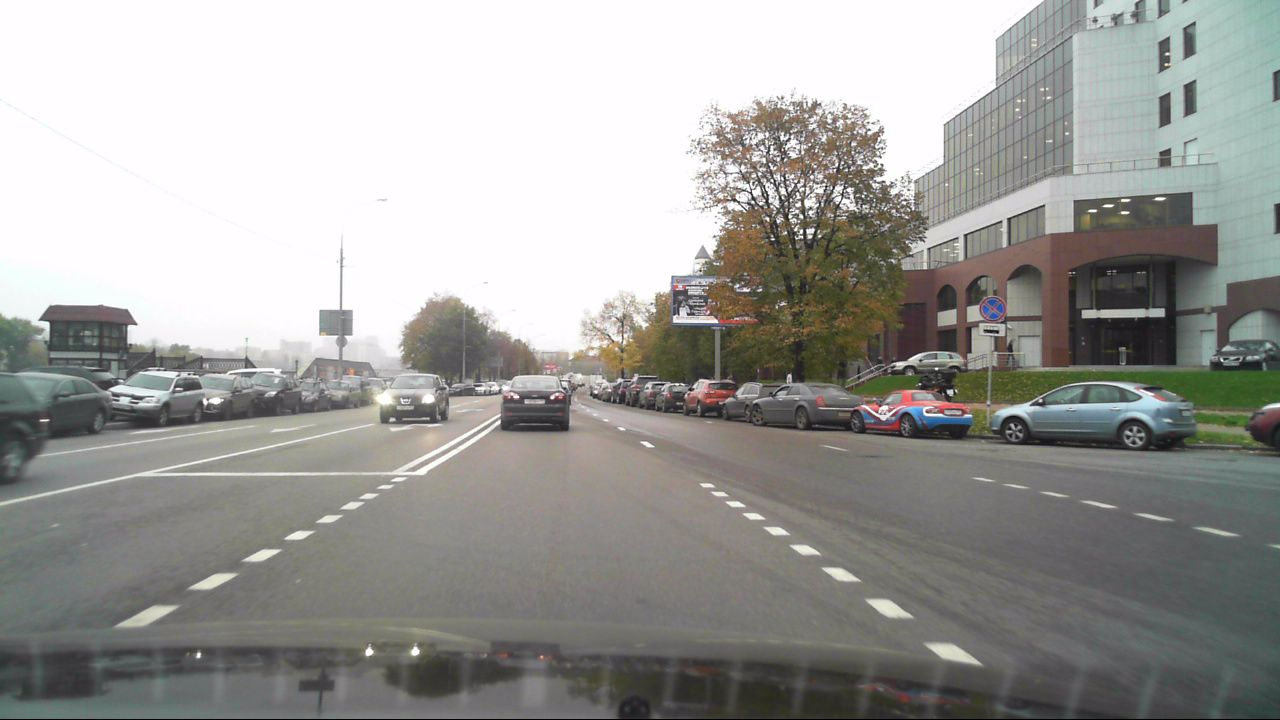No Parking: (978, 295, 1007, 322)
